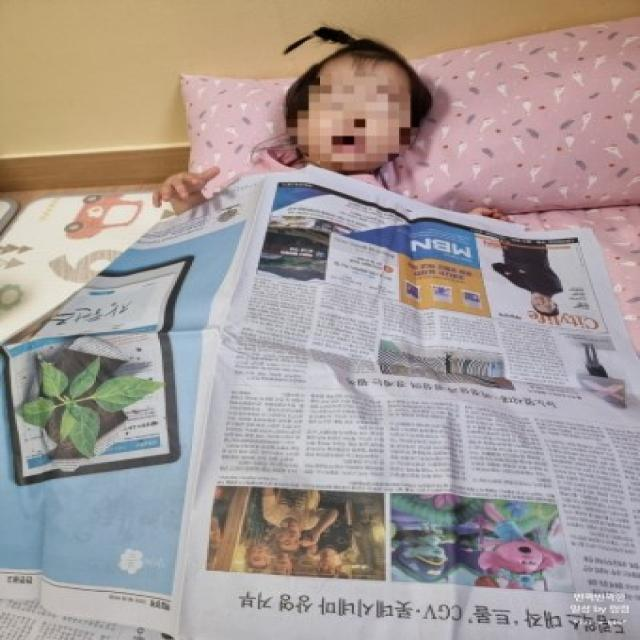Newspaper: (2, 181, 637, 640)
